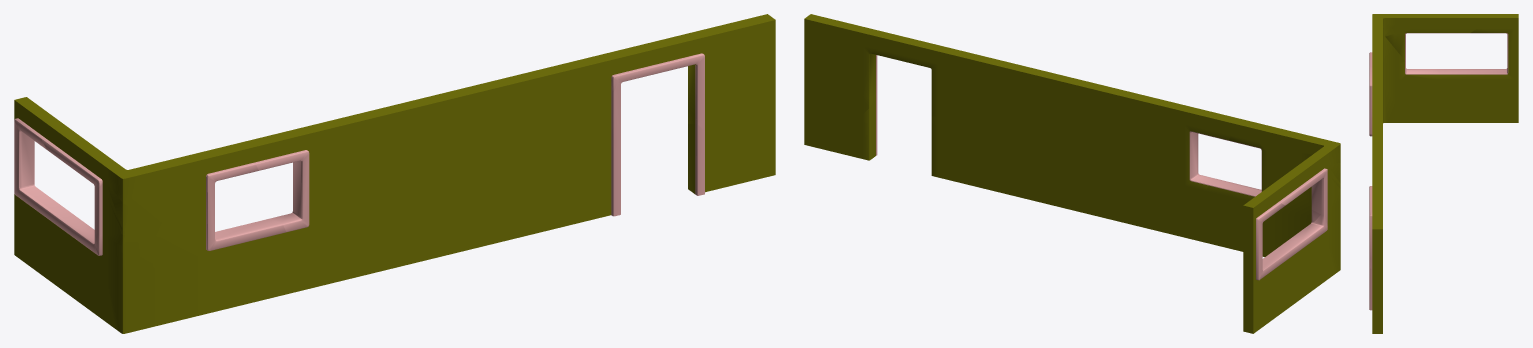
File: KitchenWall_Fractured.fbx
The picture shows the model from 3 angles, left to right: view 1: azimuth 30°, elevation 25°; view 2: azimuth 150°, elevation 25°; view 3: azimuth 270°, elevation 25°; orthographic projection. The views are drawn at different scales.
Visible parts, largest first — view 1: polySurface376, polySurface371, polySurface361, polySurface368, polySurface374, polySurface393, polySurface369, polySurface378, polySurface388, polySurface384, polySurface382, polySurface356 (+21 smaller); view 2: polySurface368, polySurface371, polySurface374, polySurface361, polySurface393, polySurface376, polySurface369, polySurface378, polySurface377, polySurface382, polySurface384, polySurface391 (+20 smaller); view 3: polySurface368, polySurface373, polySurface363, polySurface376, polySurface388, polySurface374, polySurface366, polySurface380, polySurface390, polySurface382, polySurface362, polySurface386 (+8 smaller).
Part boxes in pixels (x1,y1,x2,y2): polySurface376: (95,233,277,333); polySurface371: (279,207,458,295); polySurface361: (161,143,292,296); polySurface368: (14,97,84,299); polySurface374: (237,119,341,250); polySurface393: (292,144,415,253); polySurface369: (525,67,604,173); polySurface378: (458,138,546,210); polySurface388: (705,14,775,99); polySurface384: (565,138,620,224); polySurface382: (597,35,688,140); polySurface356: (398,149,463,219); polySurface368: (1243,194,1305,333); polySurface371: (1062,170,1207,242); polySurface374: (1155,100,1240,209); polySurface361: (1197,119,1302,242); polySurface393: (1096,121,1196,209); polySurface376: (1208,194,1340,273); polySurface369: (943,58,1006,143); polySurface378: (989,115,1063,172); polySurface377: (804,83,877,150); polySurface382: (874,31,955,116); polySurface384: (931,116,974,184); polySurface391: (1001,158,1070,209); polySurface368: (1437,14,1518,122); polySurface373: (1387,68,1439,122); polySurface363: (1385,14,1492,62); polySurface376: (1383,62,1406,123); polySurface388: (1372,206,1382,282); polySurface374: (1369,54,1382,133); polySurface366: (1385,14,1444,36); polySurface380: (1372,18,1405,63); polySurface390: (1372,289,1382,333); polySurface382: (1369,174,1382,210); polySurface362: (1372,14,1403,35); polySurface386: (1369,200,1382,259).
Size of the model in its own units: 18.01 by 4.06 by 5.25.
